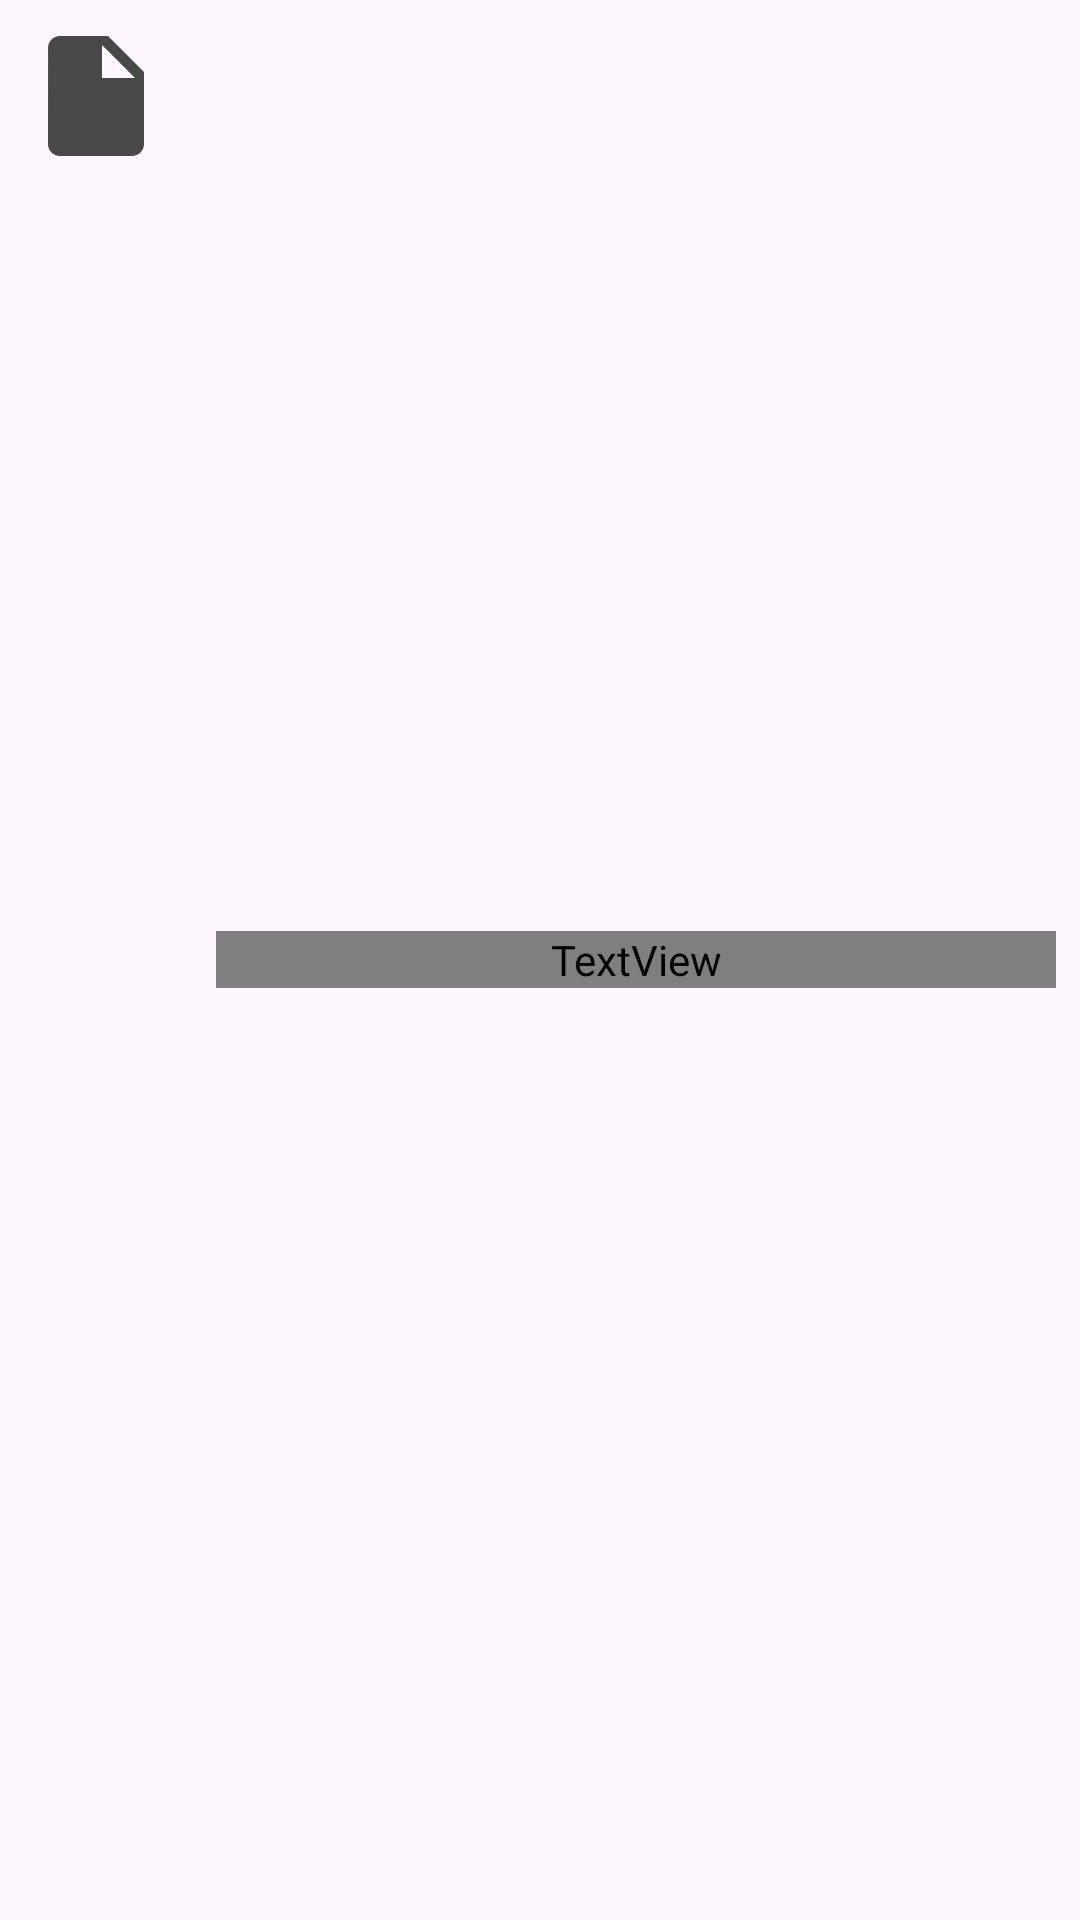

Screen size 1080px×1920px. Icon name, then its box in pixels as (x1, y1, x2, y2):
document: (48, 36, 144, 156)
